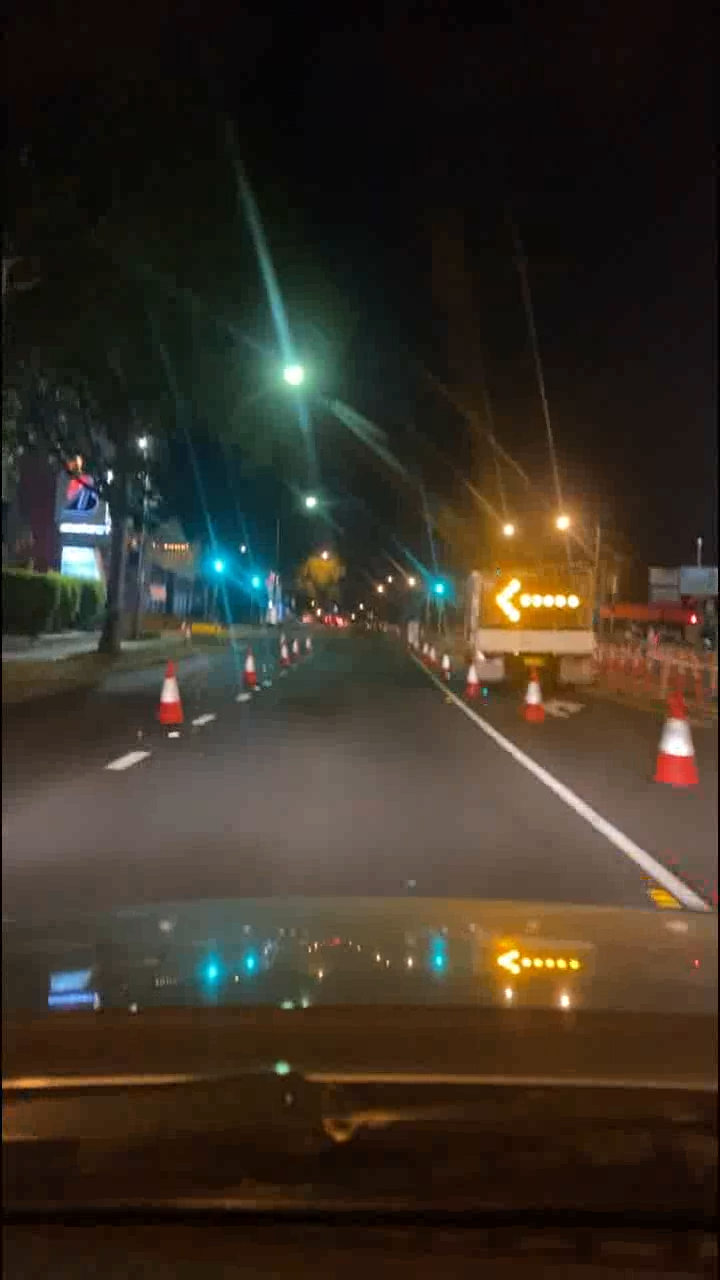road cone: (652, 680, 704, 796), (143, 652, 193, 730), (518, 663, 552, 738), (229, 637, 264, 692), (279, 625, 314, 680)
truck: (435, 564, 602, 691)
